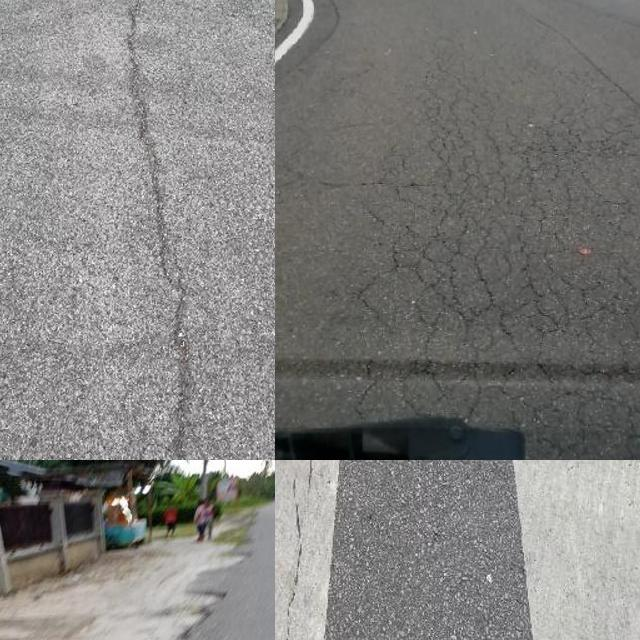Memanjang: (108, 0, 211, 460), (275, 460, 326, 640)
Retak Buaya: (368, 73, 640, 460)
